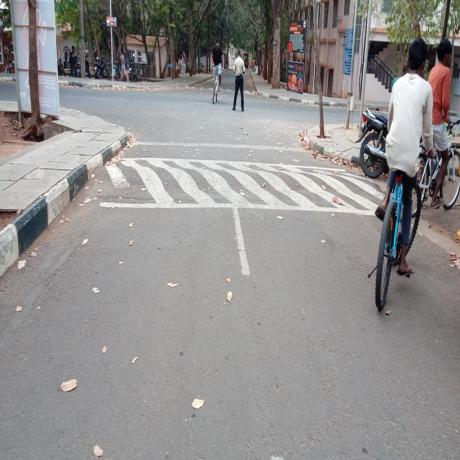Speed Bump: (102, 153, 392, 216)
